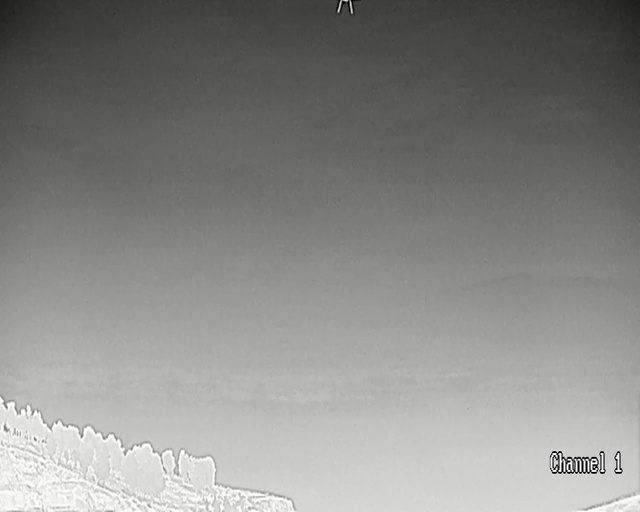uav: (336, 0, 353, 14)
